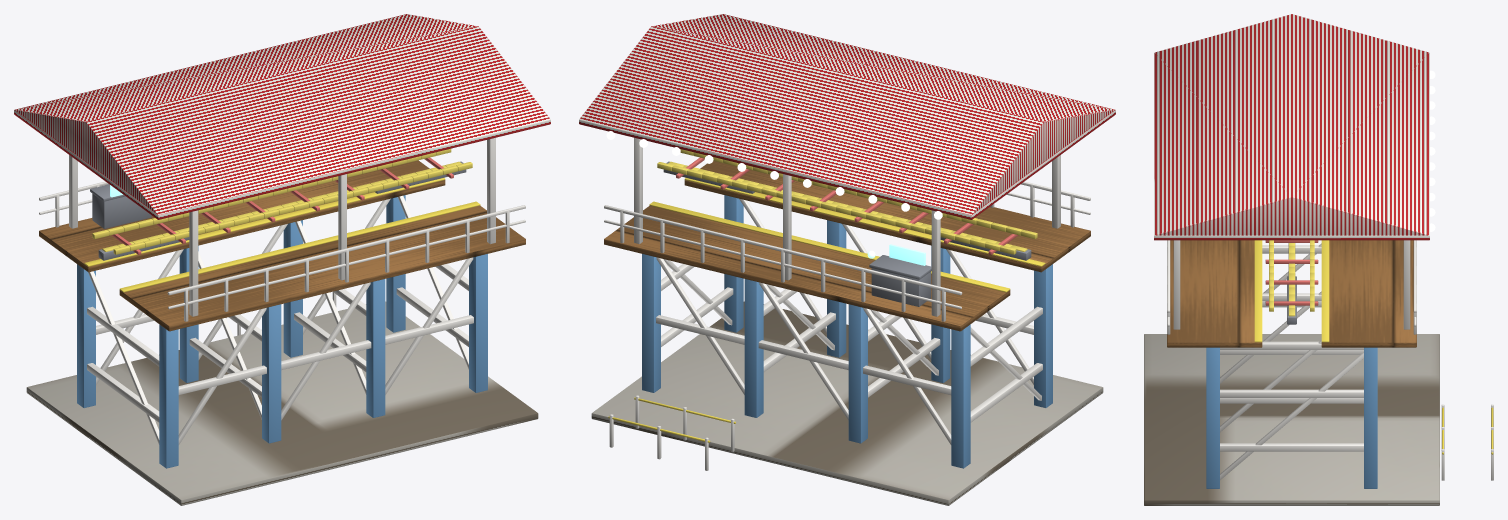
Rendered from th32_achterbahn_station.glb.
3 views of the same model, side by side, from view 1: azimuth 30°, elevation 25°; view 2: azimuth 150°, elevation 25°; view 3: azimuth 270°, elevation 25° (orthographic). The views are drawn at different scales.
Visible parts, largest first — view 1: Giebel, Cube, Cube.033, Cube.046, Cube.147, Cube.001, Cube.006, Cube.011, Cube.016, Cube.002, Cube.034, Cube.044 (+24 smaller); view 2: Giebel, Cube, Cube.046, Cube.033, Cube.147, Cube.002, Cube.007, Cube.012, Cube.017, Cube.001, Cube.047, Cube.057 (+22 smaller); view 3: Giebel, Cube, Cube.033, Cube.046, Cube.147, Cube.016, Cube.017, Cube.018, Cube.019, Cube.020, Cube.034, Cube.047 (+8 smaller).
Boxes of the visible parts, <box> form: Giebel: <box>15,14,550,214</box>; Cube: <box>26,301,538,505</box>; Cube.033: <box>119,205,525,331</box>; Cube.046: <box>39,160,445,272</box>; Cube.147: <box>14,110,550,219</box>; Cube.001: <box>159,324,178,468</box>; Cube.006: <box>262,304,281,443</box>; Cube.011: <box>366,279,385,417</box>; Cube.016: <box>469,254,487,392</box>; Cube.002: <box>77,264,95,407</box>; Cube.034: <box>119,201,480,292</box>; Cube.044: <box>167,205,525,295</box>; Giebel: <box>579,14,1114,214</box>; Cube: <box>591,301,1103,505</box>; Cube.046: <box>604,205,1010,331</box>; Cube.033: <box>684,161,1090,272</box>; Cube.147: <box>579,110,1115,219</box>; Cube.002: <box>951,324,970,468</box>; Cube.007: <box>848,304,867,443</box>; Cube.012: <box>744,279,763,417</box>; Cube.017: <box>642,254,660,392</box>; Cube.001: <box>1034,264,1052,407</box>; Cube.047: <box>649,201,1010,292</box>; Cube.057: <box>604,205,962,295</box>; Giebel: <box>1154,14,1429,235</box>; Cube: <box>1144,334,1439,505</box>; Cube.033: <box>1167,240,1262,347</box>; Cube.046: <box>1321,240,1416,347</box>; Cube.147: <box>1154,53,1429,240</box>; Cube.016: <box>1206,347,1219,488</box>; Cube.017: <box>1364,347,1377,488</box>; Cube.018: <box>1220,443,1363,451</box>; Cube.019: <box>1220,389,1363,397</box>; Cube.020: <box>1220,352,1363,480</box>; Cube.034: <box>1254,240,1262,342</box>; Cube.047: <box>1321,240,1329,342</box>.
Size of the model in its own units: 13.2 by 10.66 by 10.64.
Materials: 13 (3 with a texture image).
